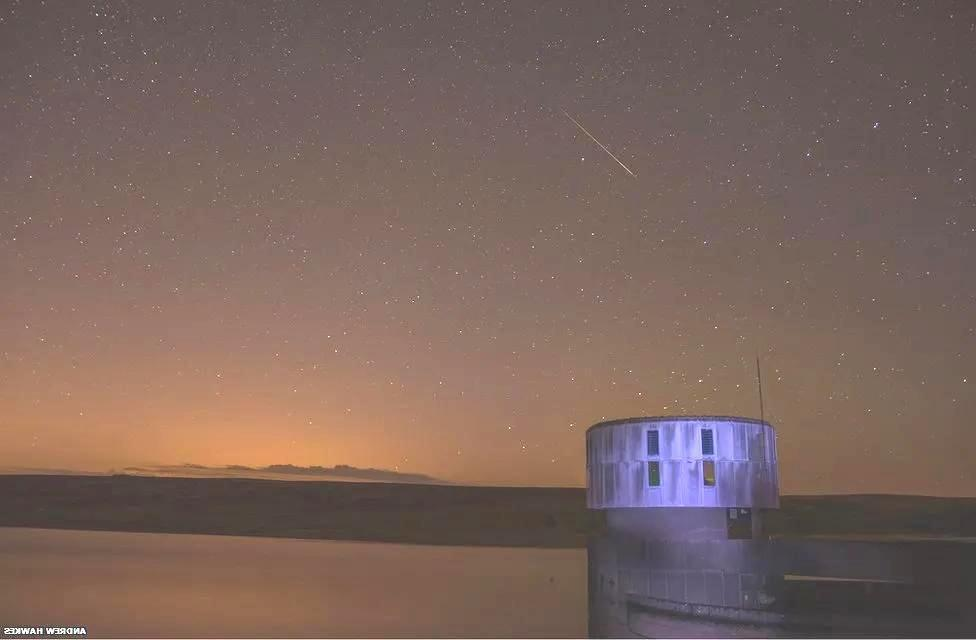meteorite: (559, 101, 636, 186)
